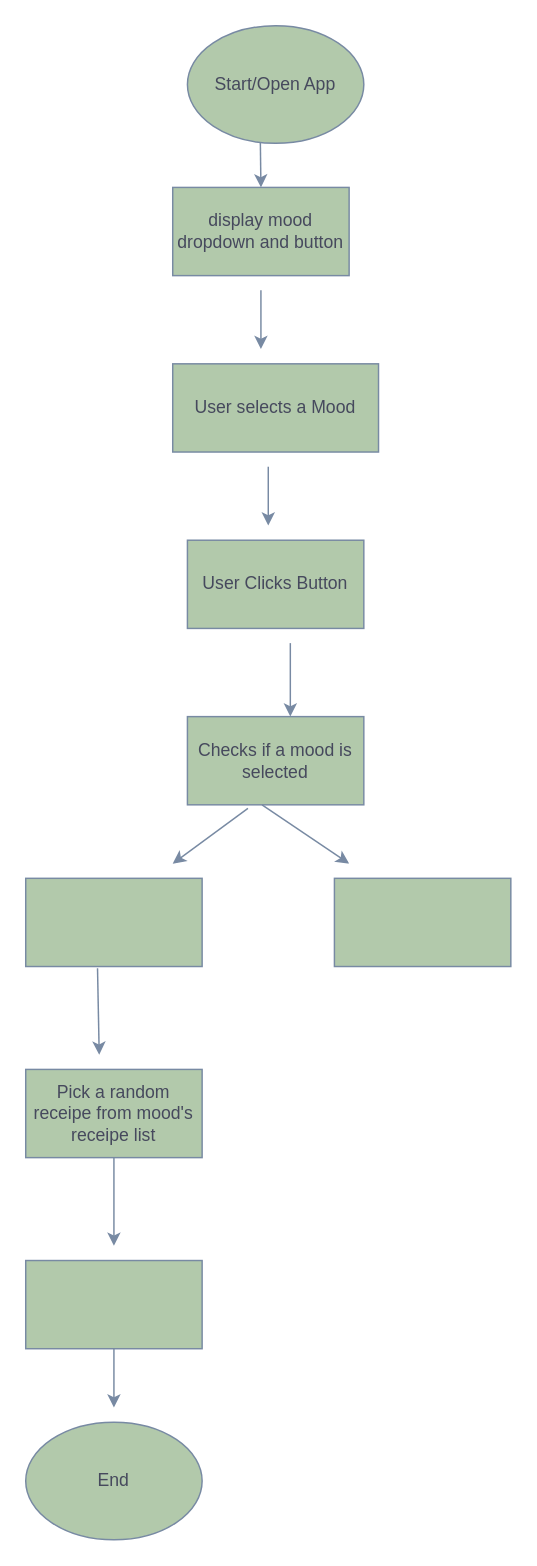
Some shapes in this 537 by 1566 pixel diagram are drawn without their labels. Each missing label, with the centre of its shape:
"Display messages: Please select a mood" belongs at (422,922).
"Display selected receipe on the page" belongs at (113,1304).
"Retrieves receipes for selected mood" belongs at (113,922).
